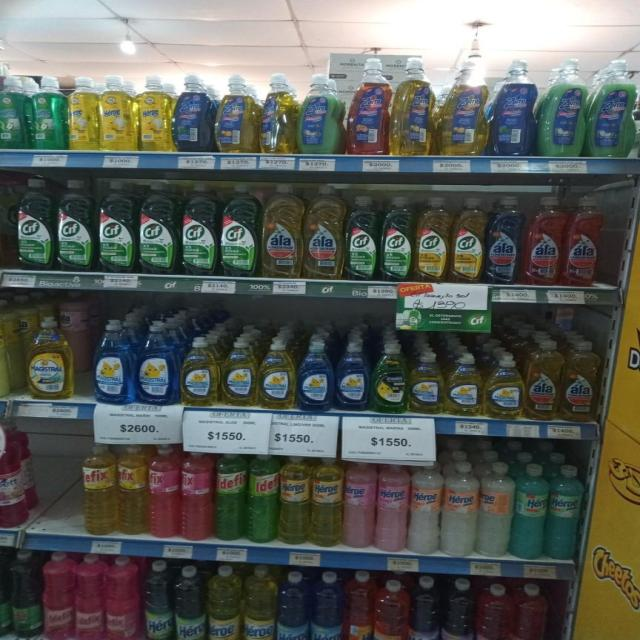ala_conc_amarillo: (261, 183, 302, 279), (304, 184, 343, 280), (562, 340, 600, 422), (526, 340, 560, 420)
ala_conc_azul: (486, 195, 522, 284)
ala_conc_rojo: (524, 195, 563, 286), (564, 196, 602, 288)
cif_conc_bot_amarilla: (451, 195, 485, 284), (416, 196, 450, 282)
cif_conc_botella_verde: (138, 180, 178, 276), (220, 182, 259, 277), (97, 179, 136, 274), (15, 177, 54, 271), (56, 178, 94, 273), (180, 182, 218, 276), (380, 195, 413, 282), (345, 194, 378, 281), (0, 174, 13, 269)
heroe: (442, 460, 478, 558), (80, 443, 117, 536), (478, 461, 512, 559), (513, 463, 547, 560), (548, 464, 582, 560), (409, 461, 441, 556), (310, 456, 342, 547), (376, 462, 408, 553), (246, 454, 278, 544), (344, 460, 376, 549), (215, 453, 246, 543), (279, 456, 309, 546)
magistral_con_amarillo: (25, 315, 75, 400), (181, 335, 219, 406), (259, 336, 295, 409), (221, 336, 258, 406), (485, 353, 524, 419), (446, 353, 483, 416), (409, 350, 444, 414)
magistral_con_azul: (92, 318, 134, 404), (137, 319, 178, 405), (297, 338, 333, 411), (336, 338, 370, 412)
zorro: (590, 59, 633, 158)
